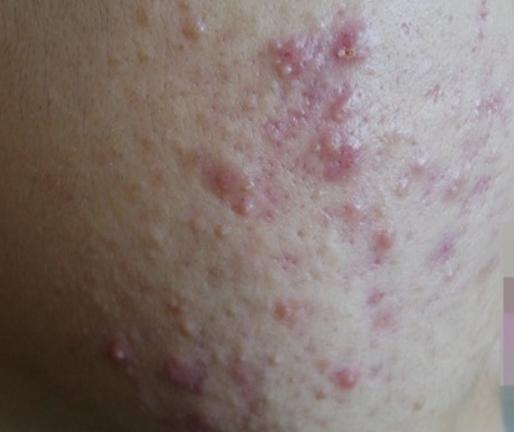papular: (203, 163, 249, 201), (365, 230, 409, 262), (335, 368, 366, 400)
purulent: (269, 60, 310, 91), (105, 341, 137, 377)
sebo-crystan-conglo: (314, 138, 368, 193), (328, 24, 374, 73), (169, 363, 210, 401)
whitehead: (171, 284, 201, 347), (438, 261, 471, 292), (187, 10, 213, 48), (267, 341, 296, 374), (235, 342, 257, 372)
